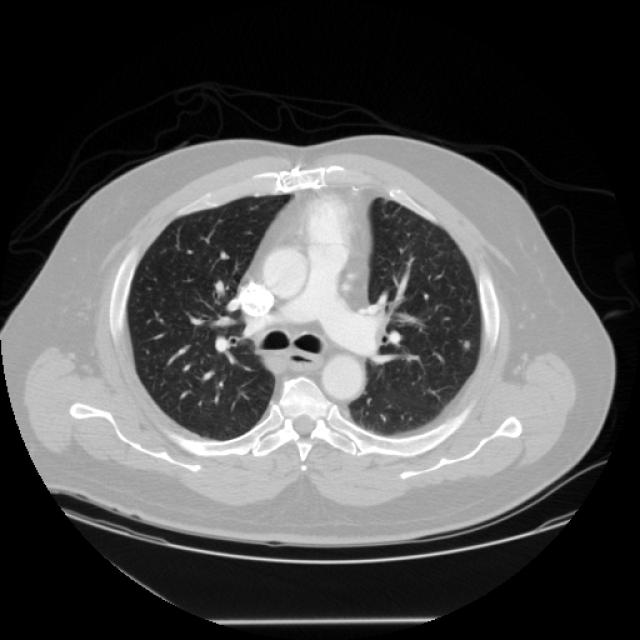nodule: (457, 335, 475, 353)
